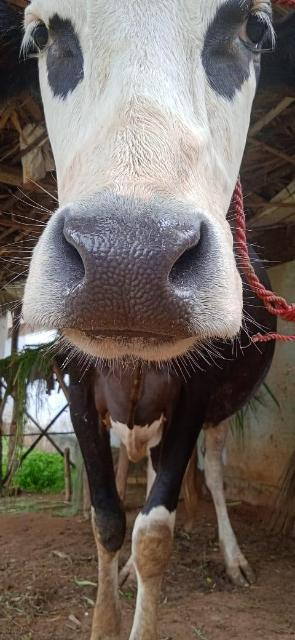Muzzle: (64, 213, 188, 335)
